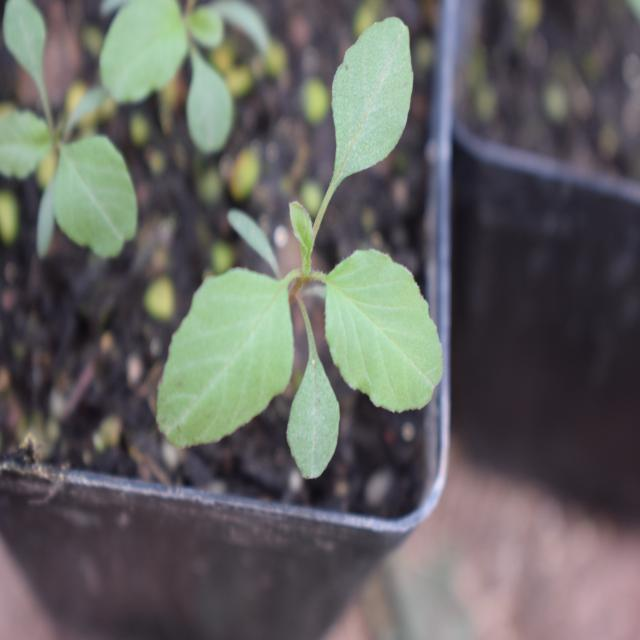pigweed: (161, 26, 446, 480)
